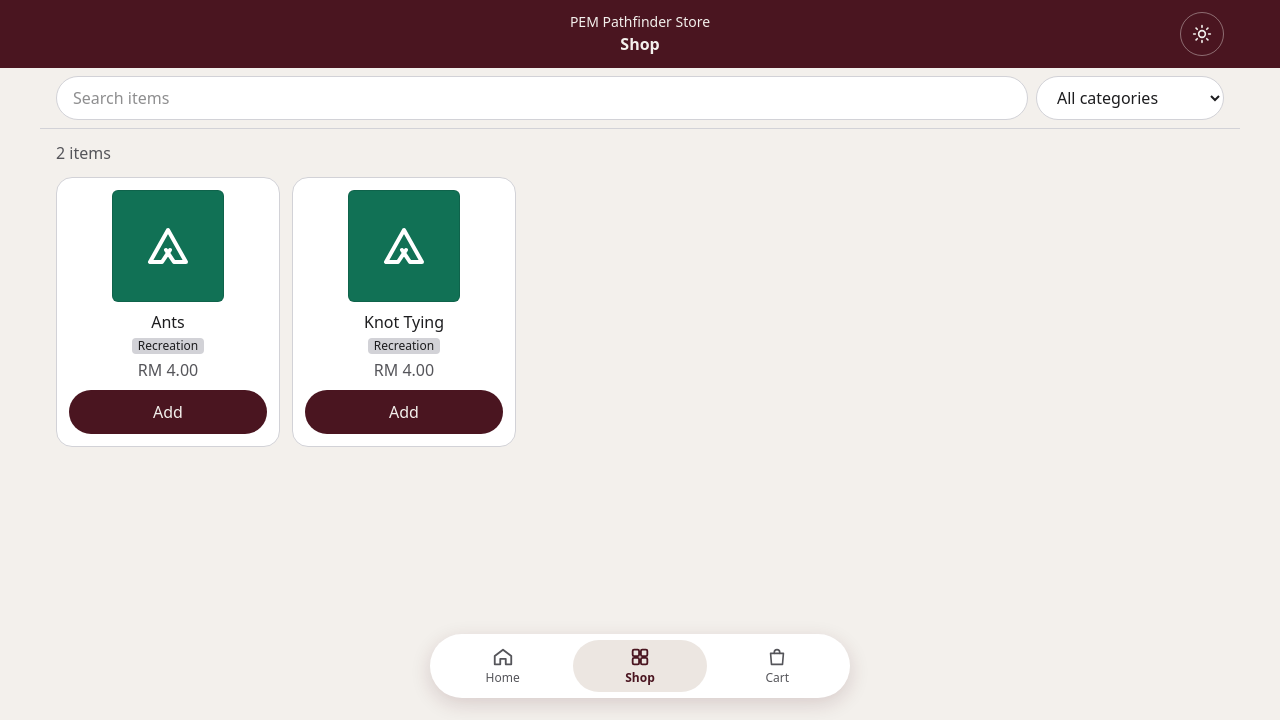
it: App › goes back in history from a cart opened by the Cart tab
Step 1. Click the button with aria-label "Add Knot Tying" → (404, 412), box top-left (305, 390), bottom-right (503, 434)
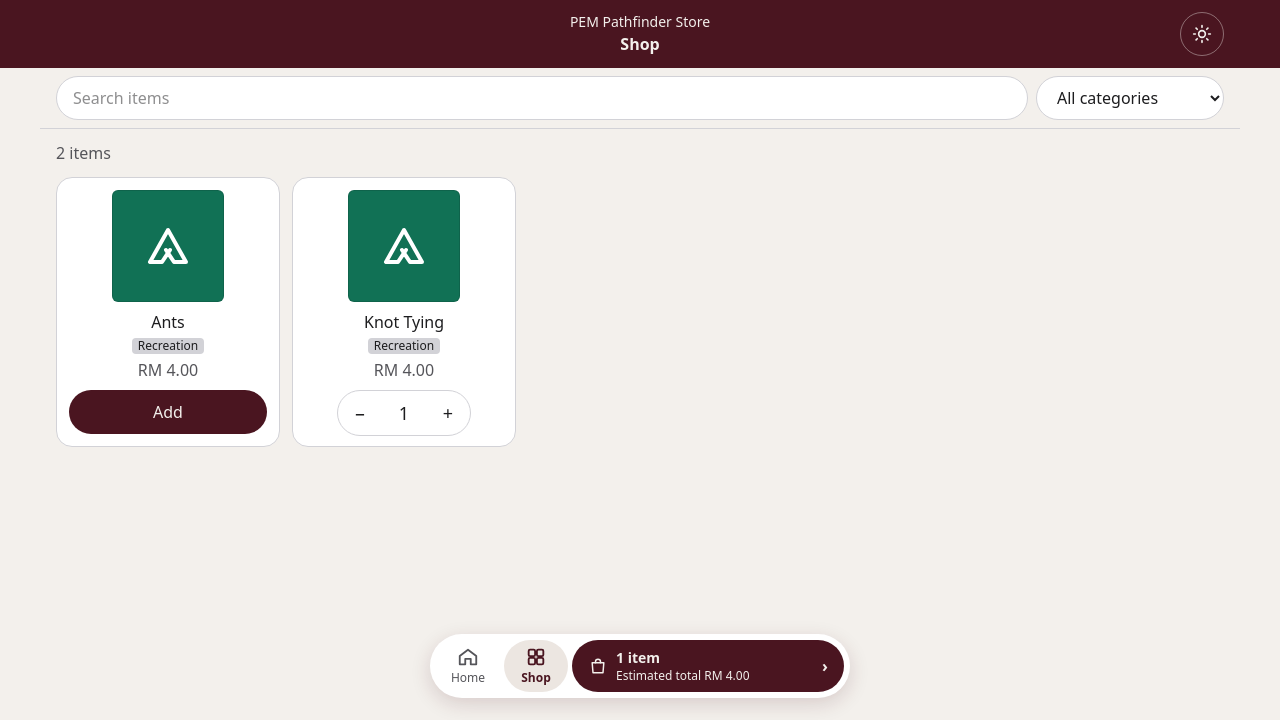
Step 2. Click the link with aria-label "Cart, " → (708, 666), box top-left (572, 640), bottom-right (844, 692)
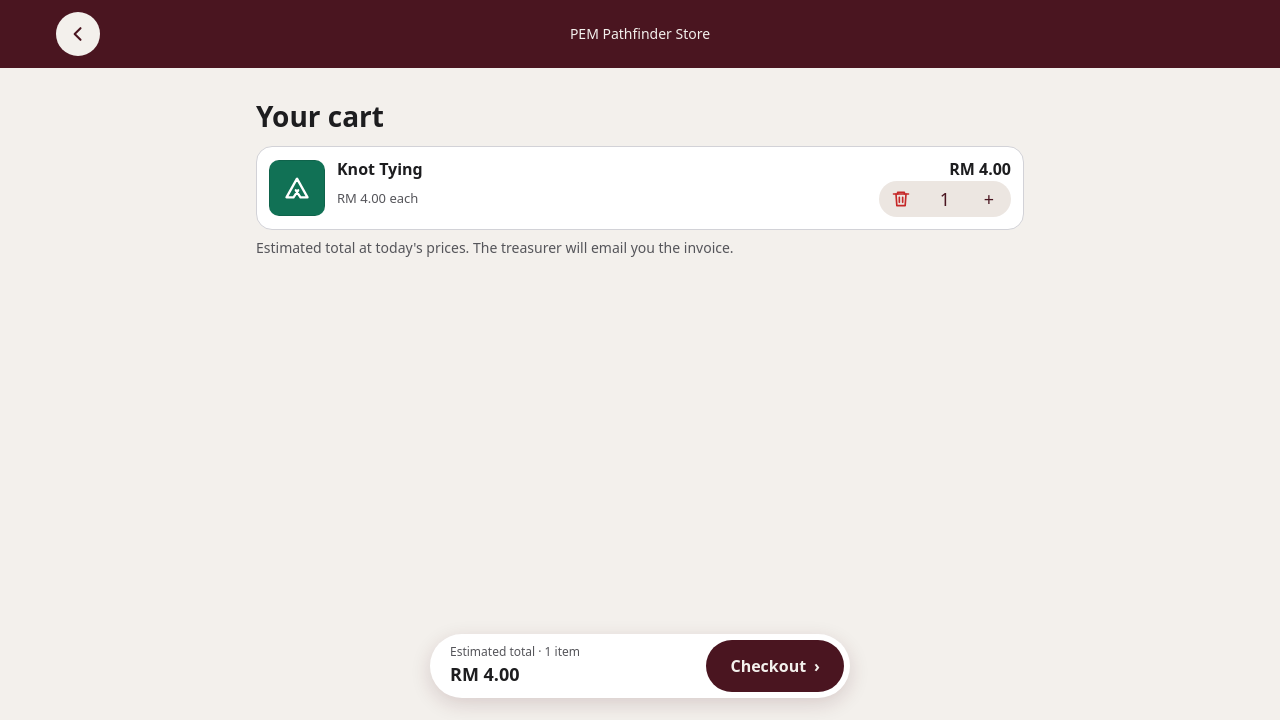
Now the heading "Your cart" is shown, box top-left (256, 97), bottom-right (384, 135)
Step 3. Click the link named "Back" → (78, 34), box top-left (56, 12), bottom-right (100, 56)
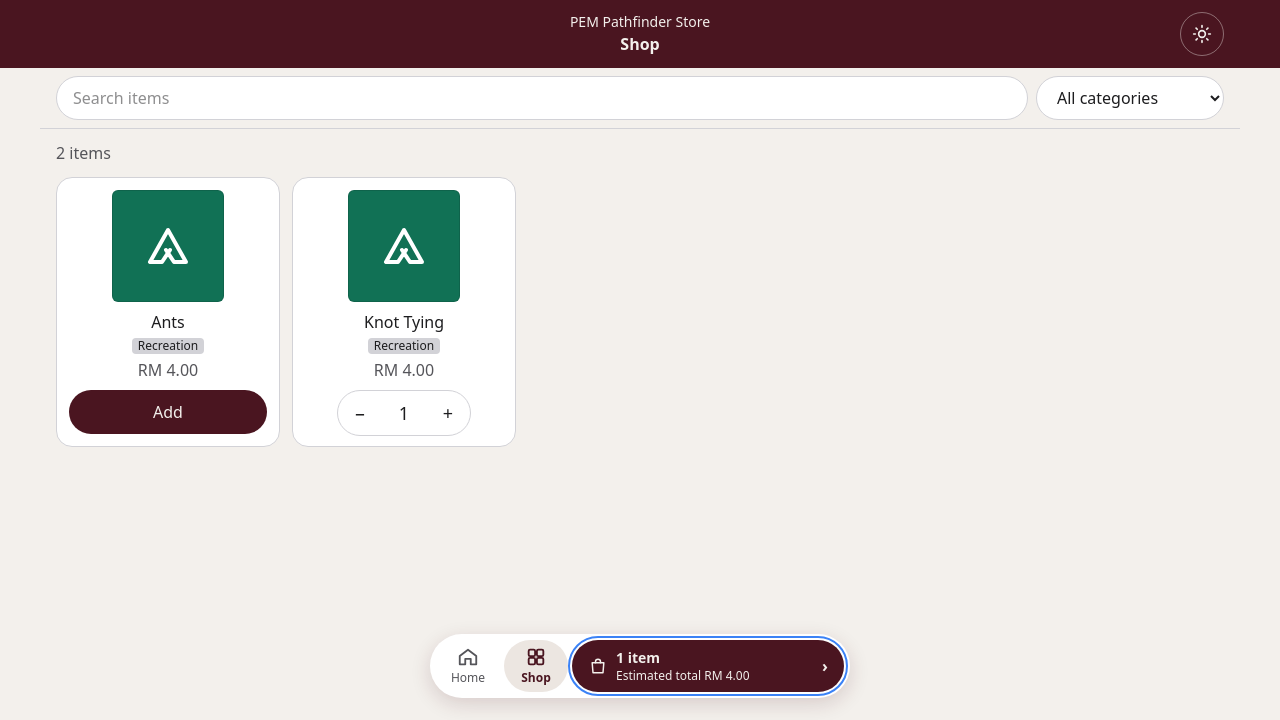
Now the search field labelled "Search items" is shown, box top-left (56, 76), bottom-right (1028, 120)
